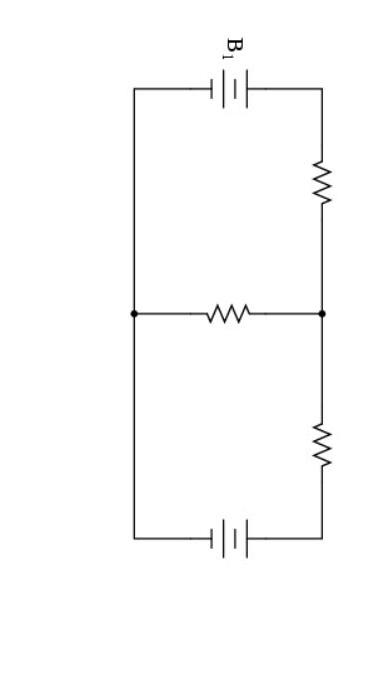resistor: (290, 122, 363, 227), (300, 396, 348, 511), (174, 288, 257, 338)
